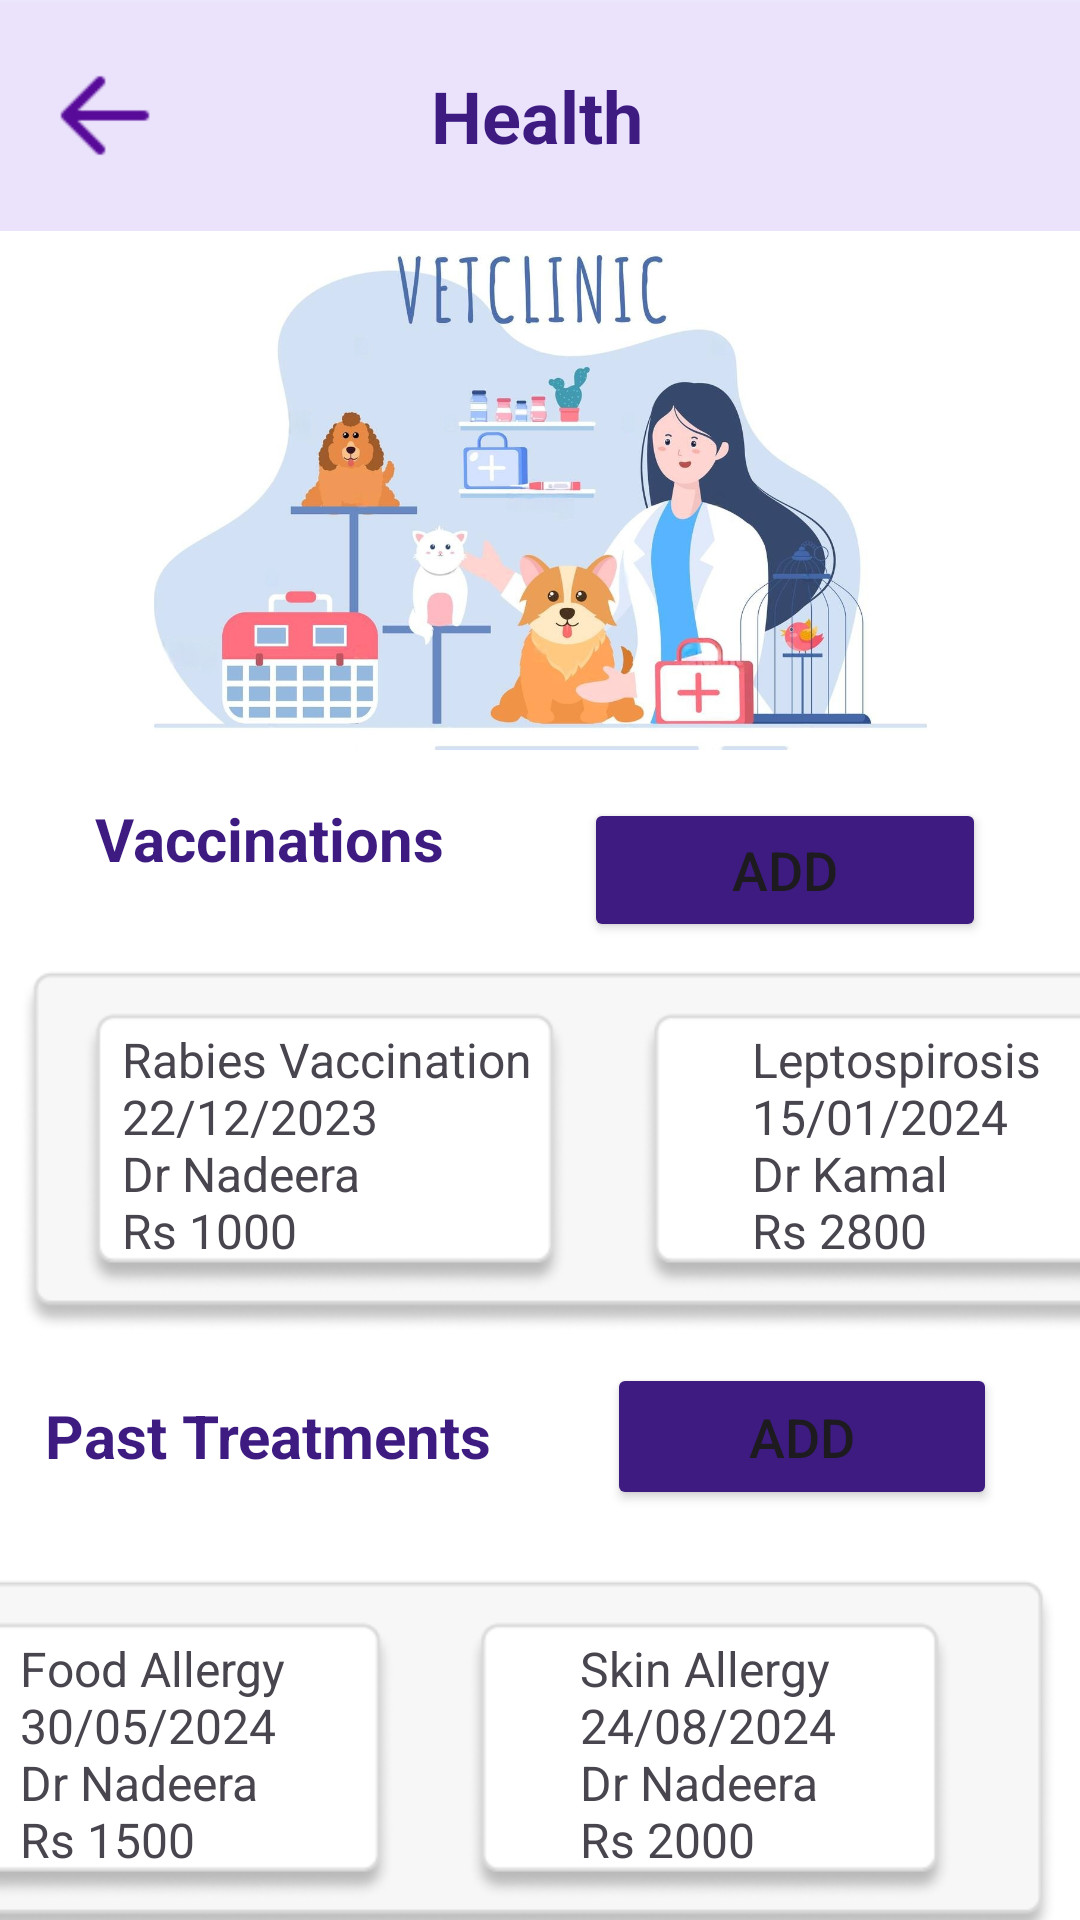

Point at icon controls on the screen. Image size 1080px x 1920px, points as point (x, y).
arrowback: point (105, 115)
